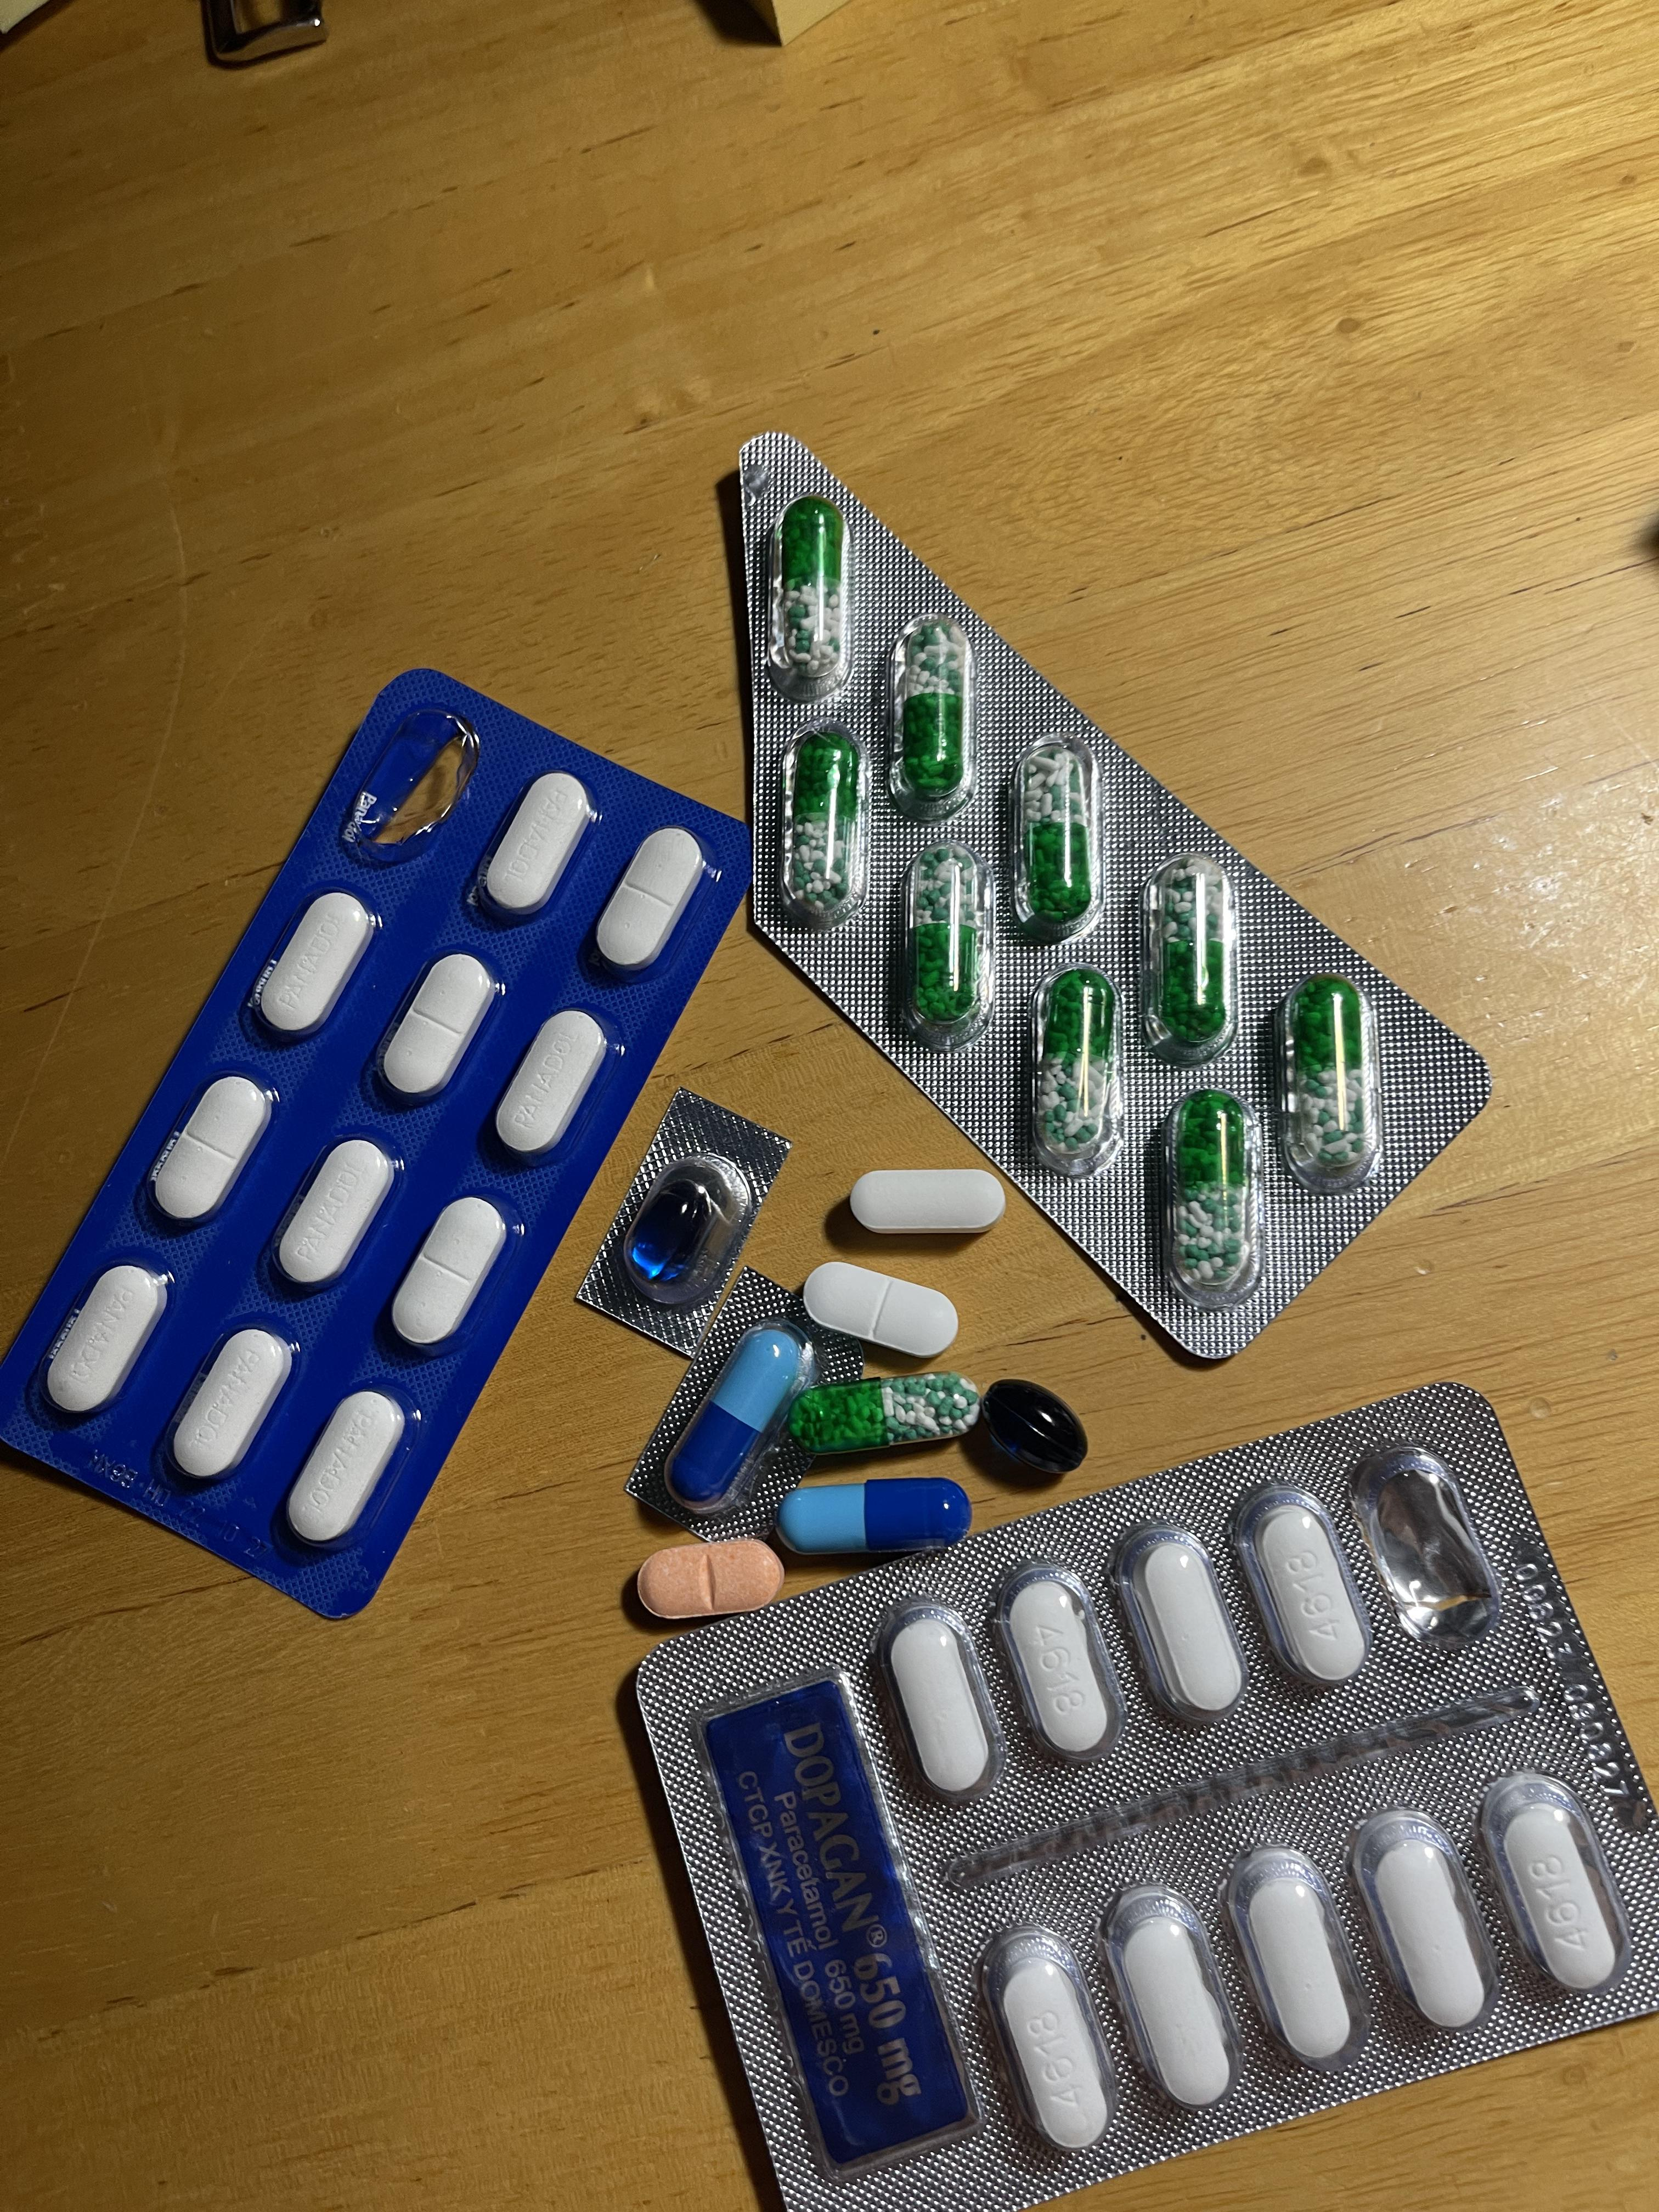Lincomyxin_500mg: (979, 1378, 1091, 1474), (626, 1179, 720, 1284)
Loratadine_10mg: (636, 1538, 784, 1613)
Paracetamol_350mg: (171, 1327, 298, 1486), (45, 1263, 171, 1418), (284, 1388, 406, 1547), (251, 890, 375, 1043), (275, 1134, 397, 1287), (491, 1008, 610, 1163), (378, 951, 497, 1106), (153, 1073, 274, 1224), (390, 1195, 507, 1348), (594, 826, 709, 979), (481, 772, 596, 923), (807, 1259, 960, 1359)
Paracetamol_500mg: (1500, 1801, 1619, 1989), (1371, 1836, 1486, 2027), (1244, 1865, 1356, 2060), (1117, 1909, 1227, 2106), (997, 1963, 1101, 2144), (1140, 1534, 1241, 1712), (1258, 1510, 1363, 1681), (889, 1618, 988, 1792), (1012, 1583, 1107, 1749), (850, 1169, 1007, 1231)
Paracetamol_650mg: (793, 1374, 979, 1456), (1175, 1094, 1253, 1285), (1039, 972, 1117, 1162), (1290, 982, 1368, 1169), (779, 502, 847, 697), (789, 733, 861, 918), (1021, 740, 1089, 923), (911, 852, 981, 1024), (1159, 876, 1229, 1040), (901, 624, 967, 789)
pill: (664, 1320, 802, 1508), (784, 1474, 967, 1548)
